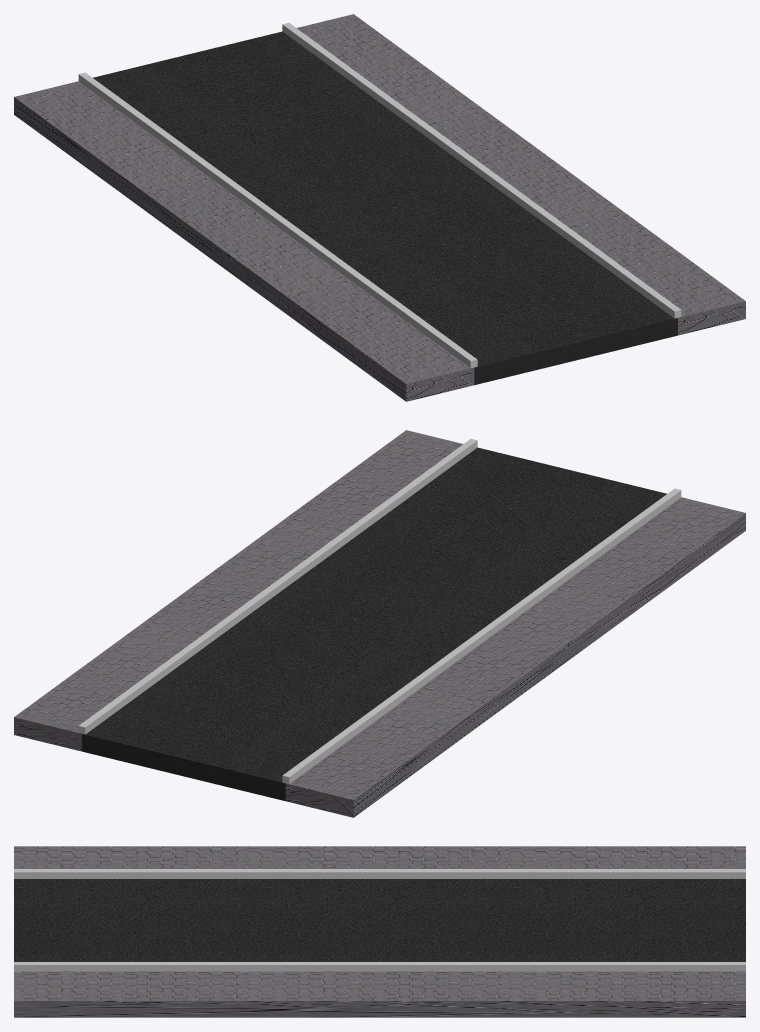
Rendered from road.fbx.
The picture shows the model from 3 angles, top to bottom: view 1: azimuth 30°, elevation 25°; view 2: azimuth 150°, elevation 25°; view 3: azimuth 270°, elevation 25°; orthographic projection. The views are drawn at different scales.
Visible parts, largest first — view 1: дорога, тротуар, тротуар.001, поребрик.002, поребрик; view 2: дорога, тротуар, тротуар.001, поребрик.002, поребрик; view 3: дорога, тротуар.001, тротуар, поребрик, поребрик.002.
Part boxes in pixels (left/top/right/bottom): дорога: left=93, top=31, right=677, bottom=385; тротуар: left=14, top=81, right=474, bottom=401; тротуар.001: left=297, top=14, right=745, bottom=335; поребрик.002: left=282, top=23, right=681, bottom=318; поребрик: left=78, top=72, right=477, bottom=368; дорога: left=82, top=447, right=666, bottom=801; тротуар: left=285, top=497, right=745, bottom=817; тротуар.001: left=14, top=430, right=462, bottom=751; поребрик.002: left=78, top=439, right=477, bottom=734; поребрик: left=282, top=488, right=681, bottom=784; дорога: left=14, top=879, right=745, bottom=961; тротуар.001: left=14, top=971, right=745, bottom=1017; тротуар: left=14, top=846, right=745, bottom=868; поребрик: left=14, top=869, right=745, bottom=878; поребрик.002: left=14, top=962, right=745, bottom=971.
Bounding box in the file's own units: 1000 × 70 × 2000.
